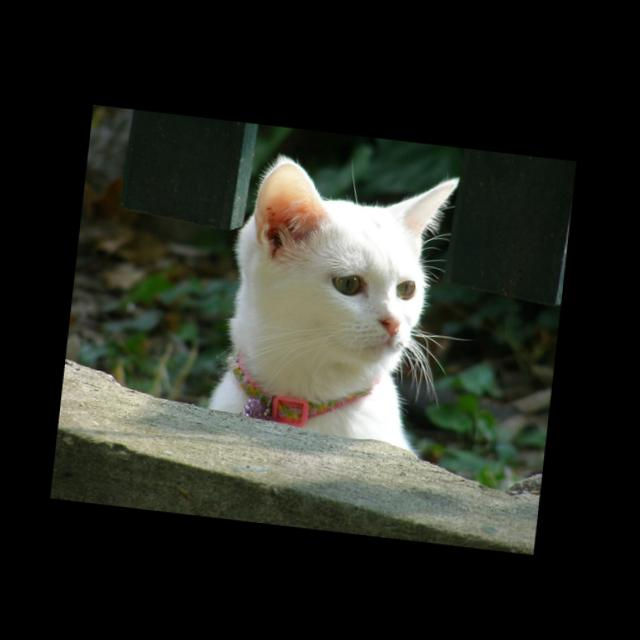animals: (255, 155, 457, 338)
